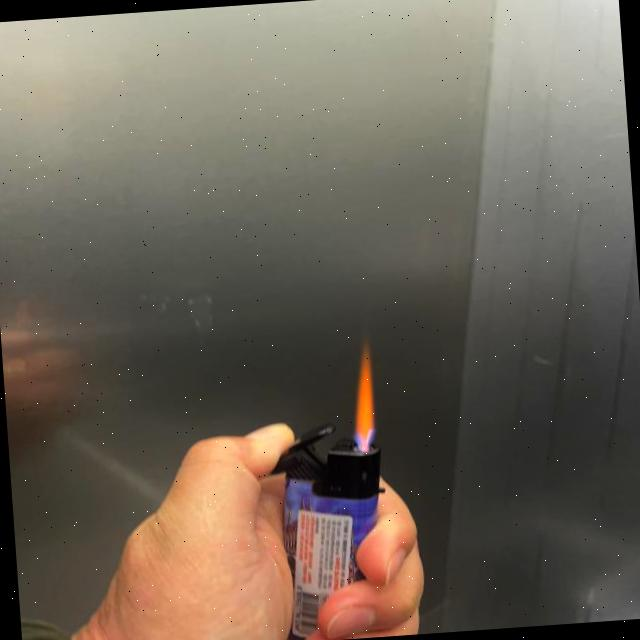fire: (344, 342, 381, 448)
